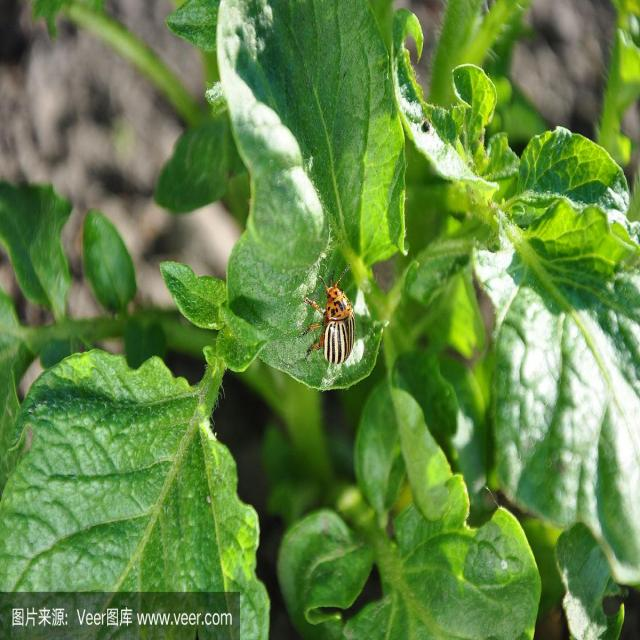ShuCaiHuaBanChong-Grown-: (310, 275, 370, 378)
